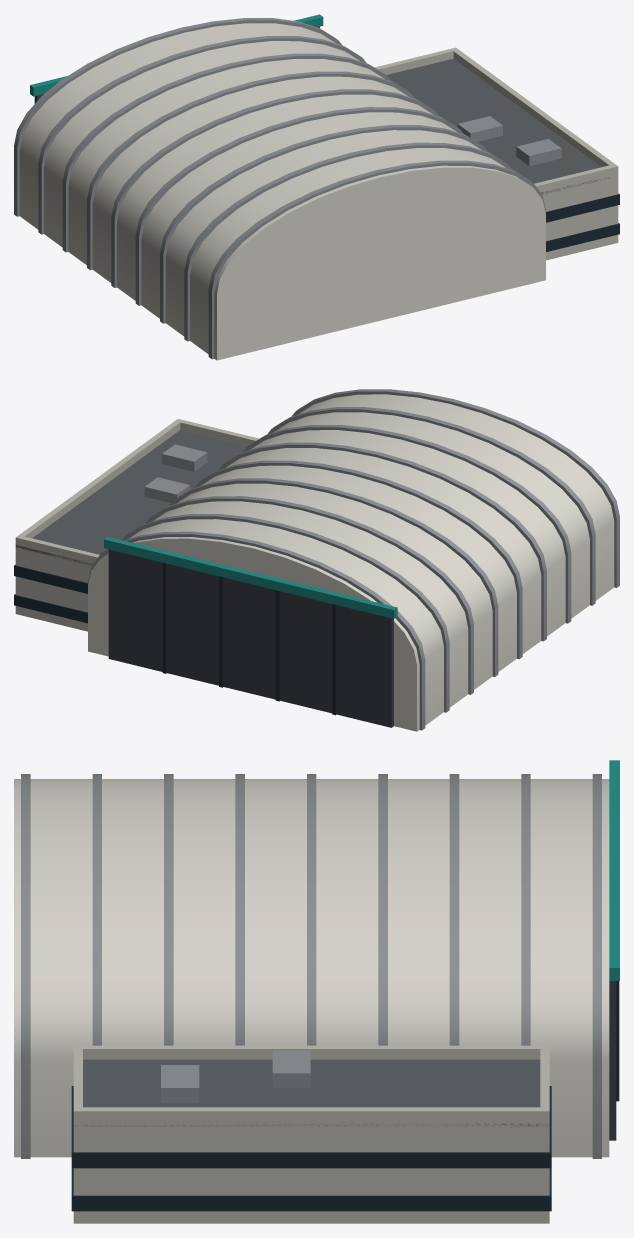
Rendered from hangar_2.glb.
3 renders of one model, top to bottom at view 1: azimuth 30°, elevation 25°; view 2: azimuth 150°, elevation 25°; view 3: azimuth 270°, elevation 25°, orthographic. The views are drawn at different scales.
Parts seen in each view (by area): view 1: Hangar.001; view 2: Hangar.001; view 3: Hangar.001.
Part boxes in pixels (x1,y1,x2,y2): Hangar.001: [14, 14, 619, 360]; Hangar.001: [14, 389, 619, 731]; Hangar.001: [14, 760, 619, 1223].
Bounding box in the file's own units: 60.5 × 19.85 × 50.9.
